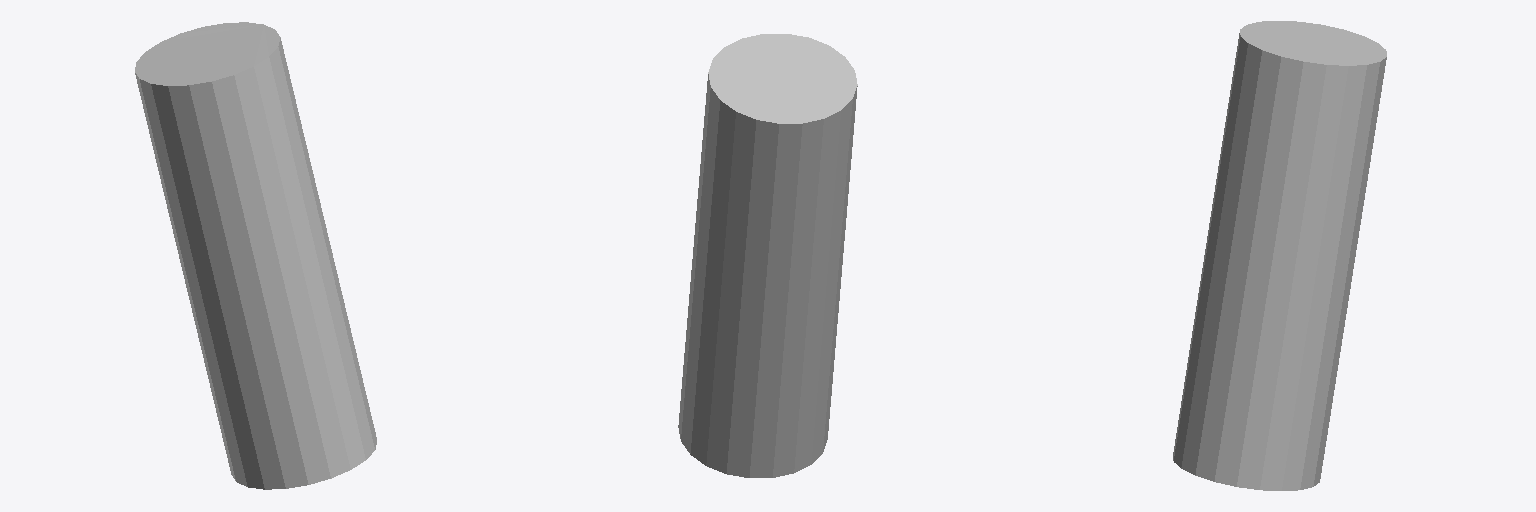
Rendered from 2proxph_skin.obj.
3 renders of one model, left to right at view 1: azimuth 30°, elevation 25°; view 2: azimuth 150°, elevation 25°; view 3: azimuth 270°, elevation 25°, orthographic.
Size of the model in its own units: 0.0194 by 0.0414 by 0.0189.